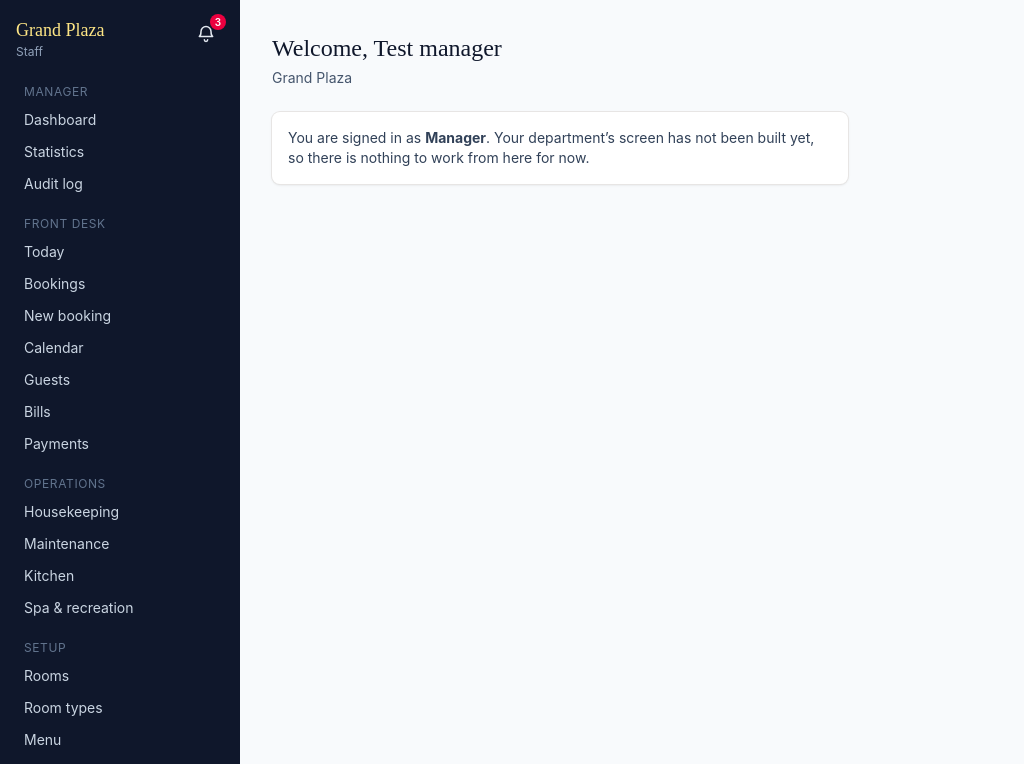
the notification bell › opens a list with each notification, marking unread ones
Click the button named "Notifications" at (206, 34), box [188,16,224,52]
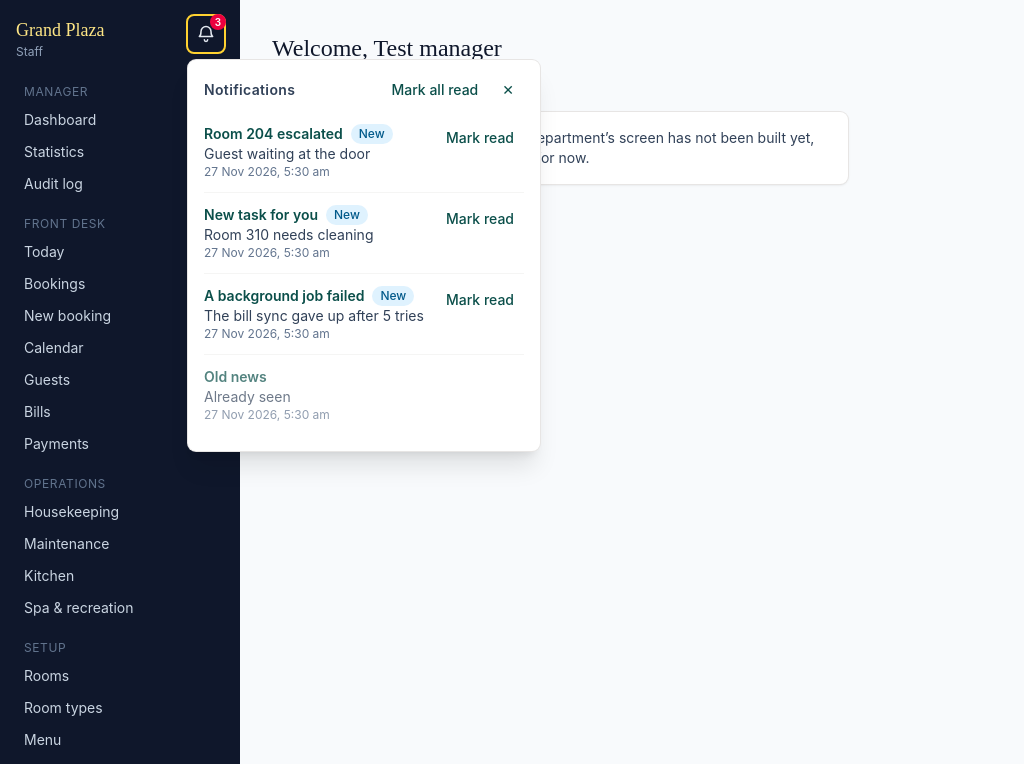
Now the button "Room 204 escalated" is shown, box [204,124,343,144]
Now the text "Guest waiting at the door" is shown, box [204,144,393,164]
Now the text "Room 310 needs cleaning" is shown, box [204,225,374,245]
